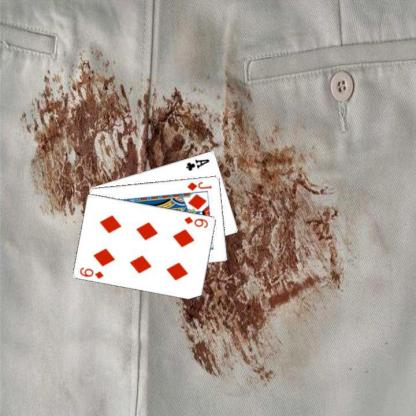6D: (78, 264, 105, 280), (182, 214, 209, 229)
AC: (184, 156, 211, 172)
JD: (184, 179, 213, 192)
